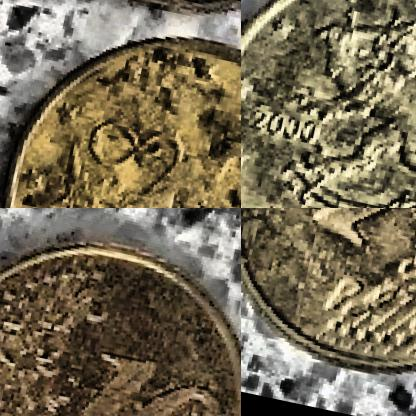coin: (0, 208, 240, 415), (0, 5, 240, 207), (241, 0, 415, 207), (241, 208, 415, 410)
